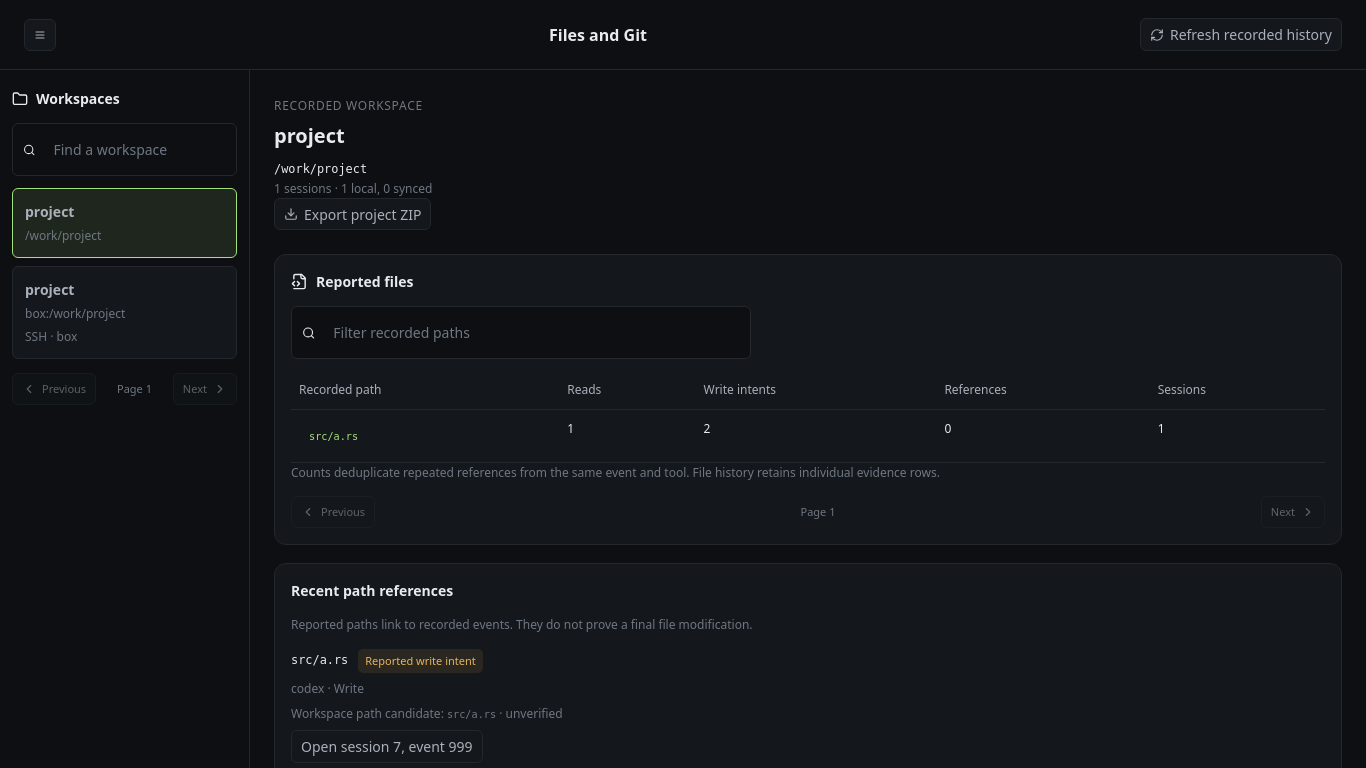
Test: project export opens a preview for the selected recorded workspace
The image size is (1366, 768).
What coordinates should you click on to do the following:
click the button "Export project ZIP"
I would click on:
 (353, 214)
Its box is [274,198,432,230].
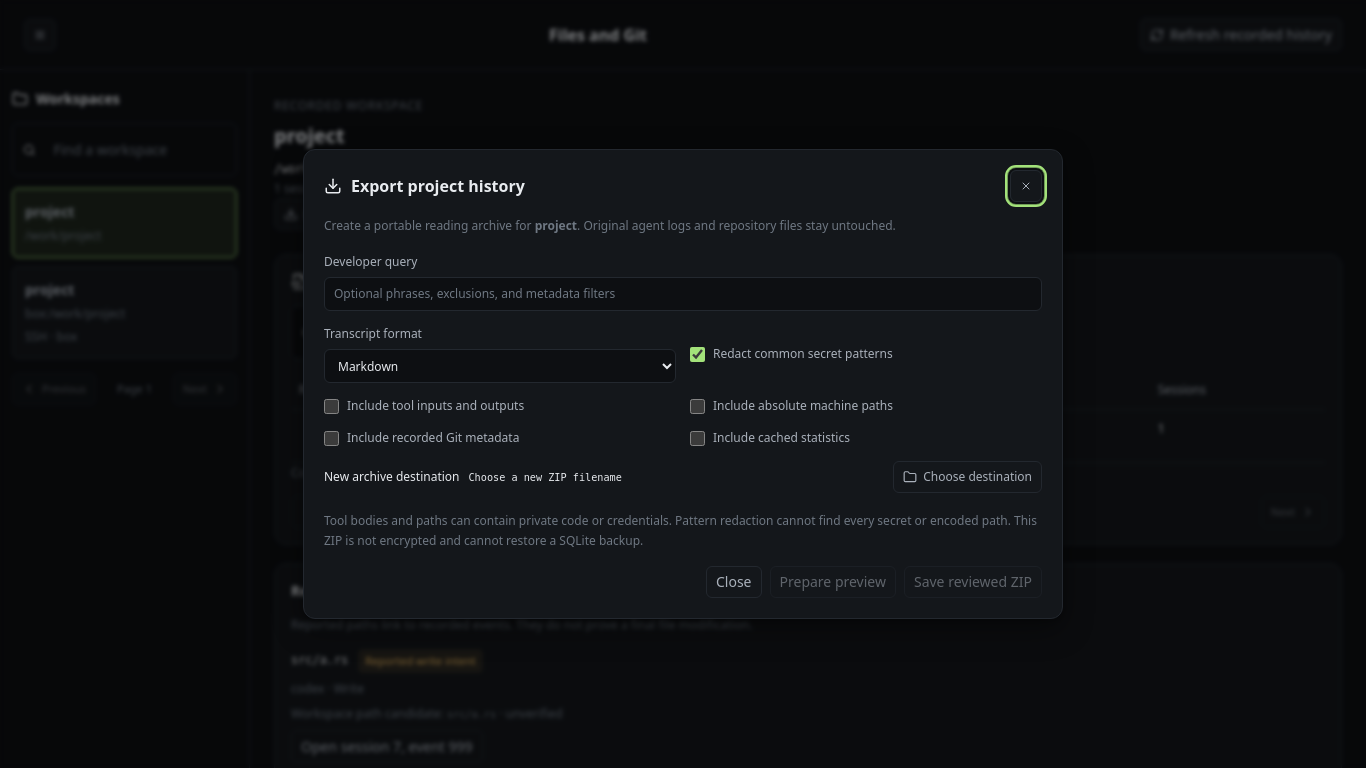
Result: the text "project" is shown at [535,217,577,234]
Result: the button "Save reviewed ZIP" is disabled at [904,566,1042,598]
What coordinates should you click on to do the following:
click the button named "Close project export"
I would click on:
 (1026, 186)
Its box is [1010,170,1042,202].
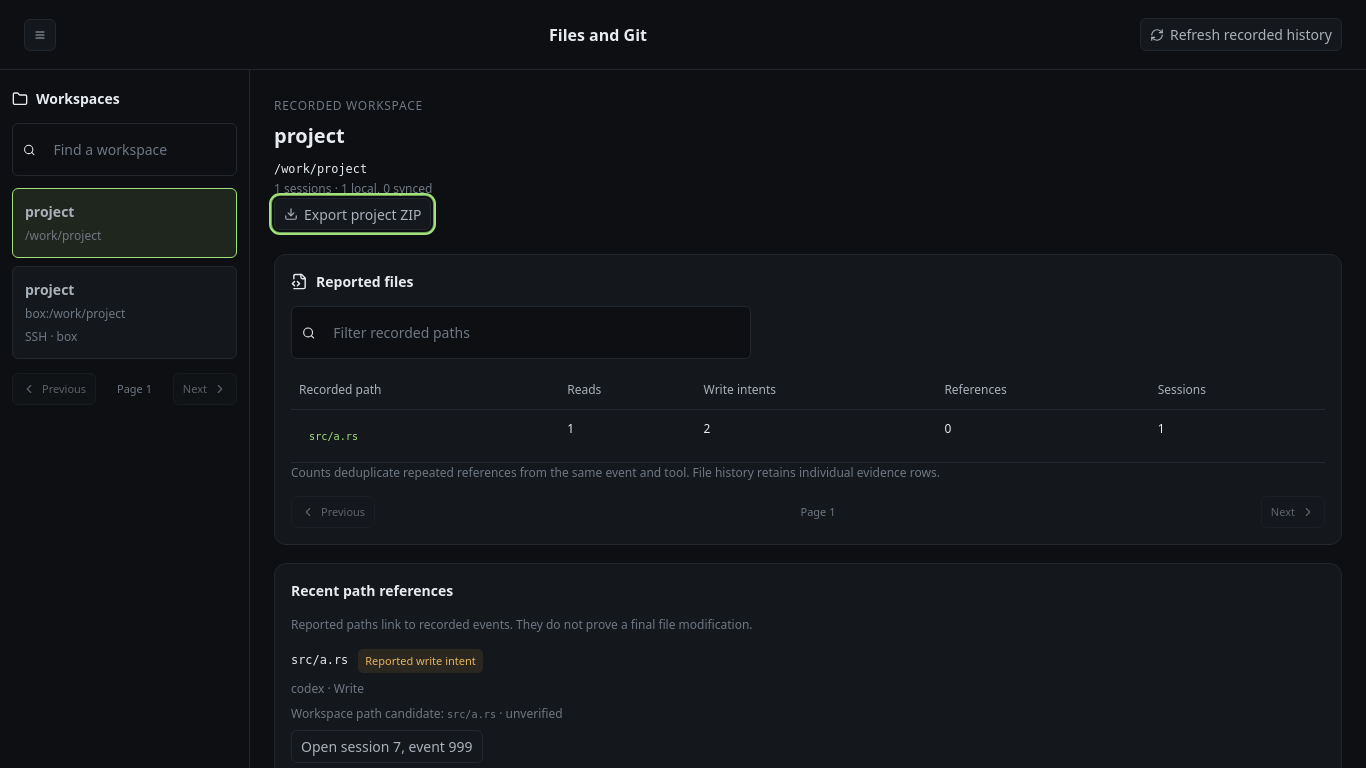
Result: the dialog is gone
